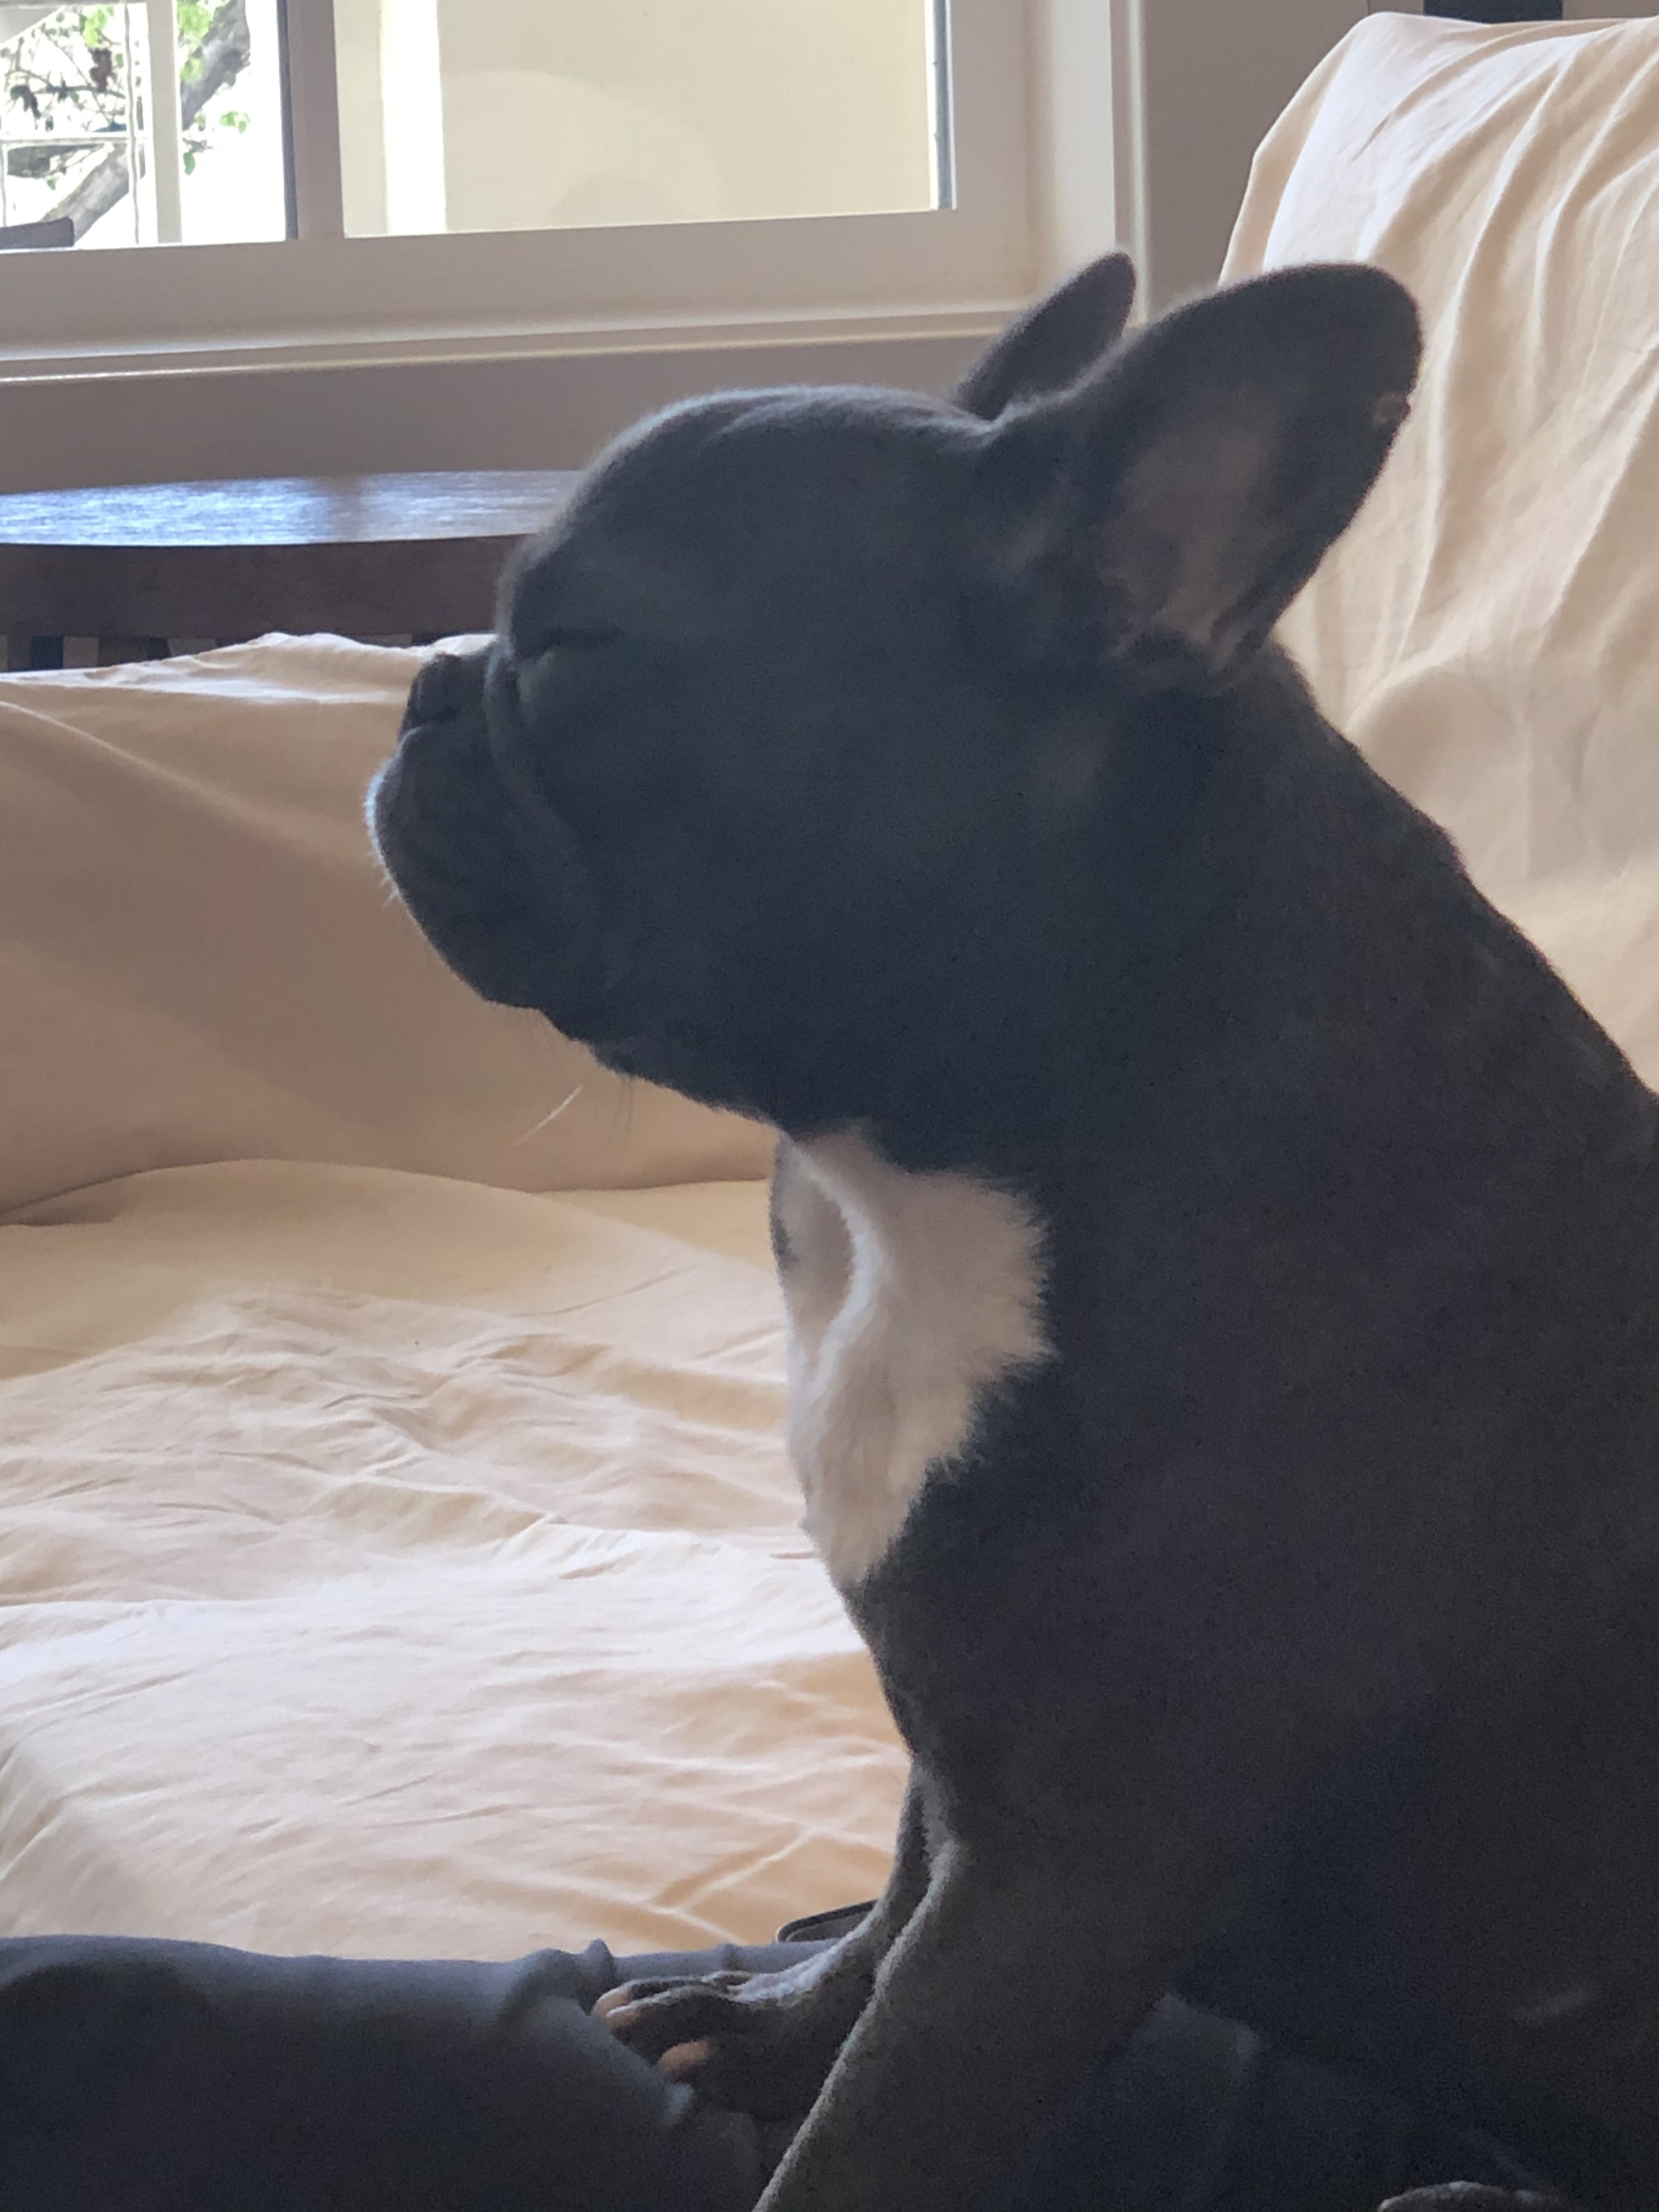lucy: (357, 247, 1650, 2202)
